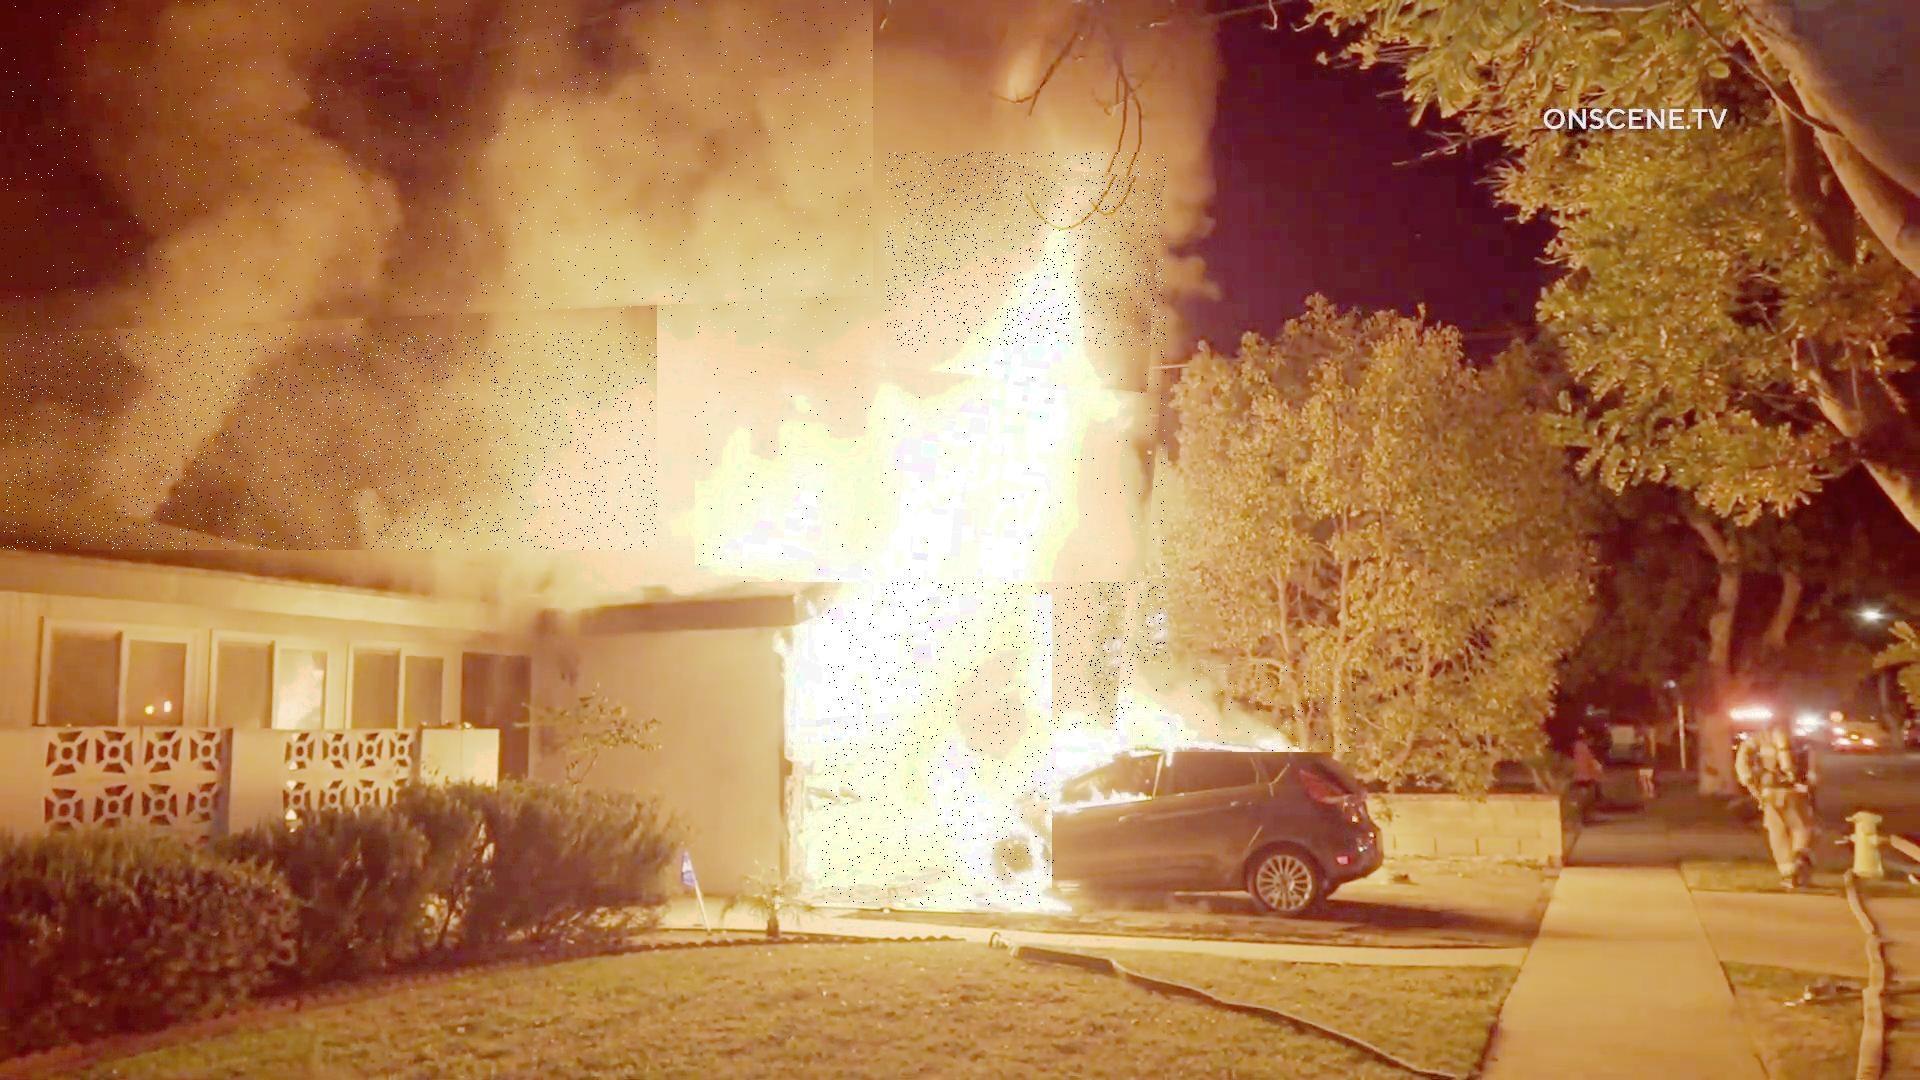fire: (886, 152, 1167, 731), (695, 347, 1162, 583), (823, 596, 1055, 906), (1135, 663, 1358, 752)
smoke: (3, 3, 657, 550), (0, 0, 873, 334), (0, 0, 873, 193)
